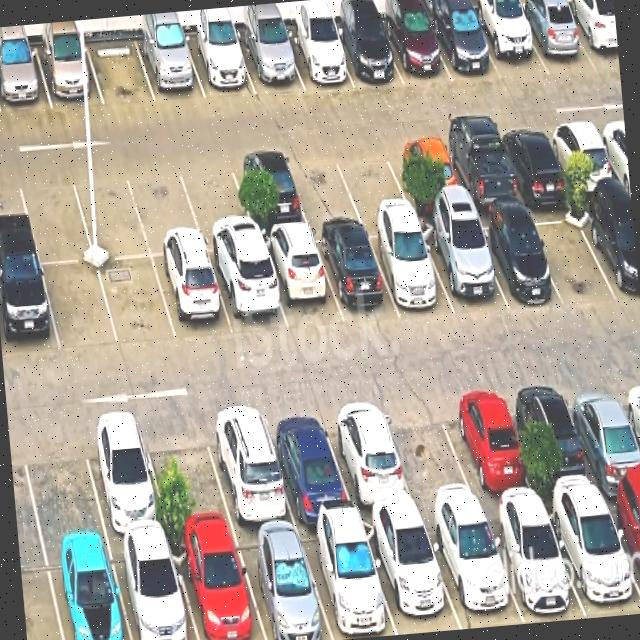empty: (377, 390, 481, 515), (140, 415, 234, 536), (17, 420, 106, 547), (525, 201, 618, 302), (177, 155, 258, 252), (70, 166, 151, 260), (16, 169, 94, 263), (127, 162, 205, 256), (97, 257, 176, 347), (41, 262, 118, 352), (284, 146, 362, 224), (333, 142, 411, 217), (85, 37, 155, 105)
occupied: (483, 505, 586, 623), (422, 510, 524, 629), (441, 384, 538, 508), (202, 403, 296, 530), (543, 495, 640, 618), (298, 521, 396, 640), (361, 518, 461, 634), (320, 398, 418, 516), (233, 528, 333, 640), (261, 404, 355, 523), (511, 379, 602, 501), (79, 416, 169, 539), (170, 532, 265, 640), (562, 376, 640, 494), (109, 537, 198, 640), (417, 217, 509, 315), (469, 212, 561, 309), (259, 229, 343, 332), (312, 224, 399, 323), (44, 542, 130, 640), (365, 221, 454, 315), (152, 253, 233, 341), (207, 249, 288, 335), (439, 131, 522, 210), (229, 151, 309, 231), (578, 198, 640, 301), (470, 7, 549, 81), (386, 137, 466, 210), (0, 261, 60, 358), (496, 124, 572, 200), (514, 5, 596, 75), (545, 120, 620, 193), (379, 12, 452, 86), (426, 10, 501, 82), (330, 19, 403, 87), (183, 33, 256, 99), (135, 35, 205, 102), (35, 41, 103, 109), (281, 26, 353, 90), (236, 30, 303, 94), (563, 0, 619, 70), (602, 490, 640, 593), (0, 45, 52, 113)
